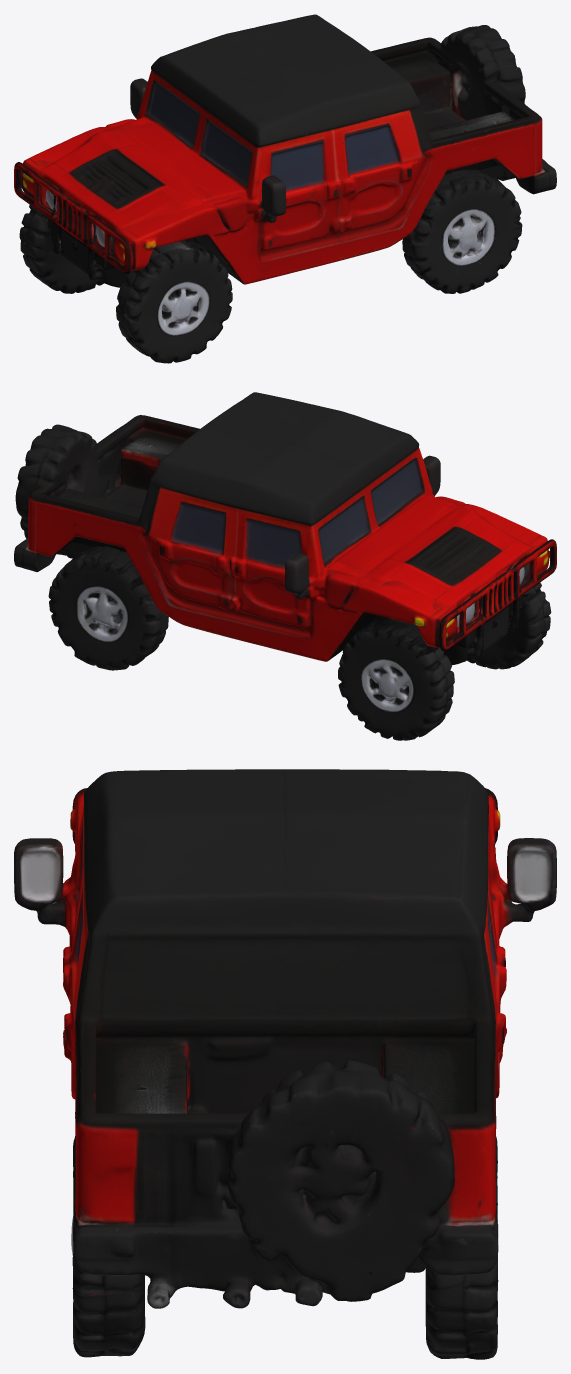
Rendered from Arnold_Hummer.glb.
3 renders of one model, top to bottom at view 1: azimuth 30°, elevation 25°; view 2: azimuth 150°, elevation 25°; view 3: azimuth 270°, elevation 25°, orthographic. The views are drawn at different scales.
Parts seen in each view (by area): view 1: world; view 2: world; view 3: world.
Part boxes in pixels (x1=…): world: x1=14, y1=14, x2=556, y2=363; world: x1=14, y1=392, x2=556, y2=740; world: x1=14, y1=769, x2=556, y2=1359.
Size of the model in its own units: 1 by 0.4722 by 0.5709.
Materials: 1 (1 with a texture image).
